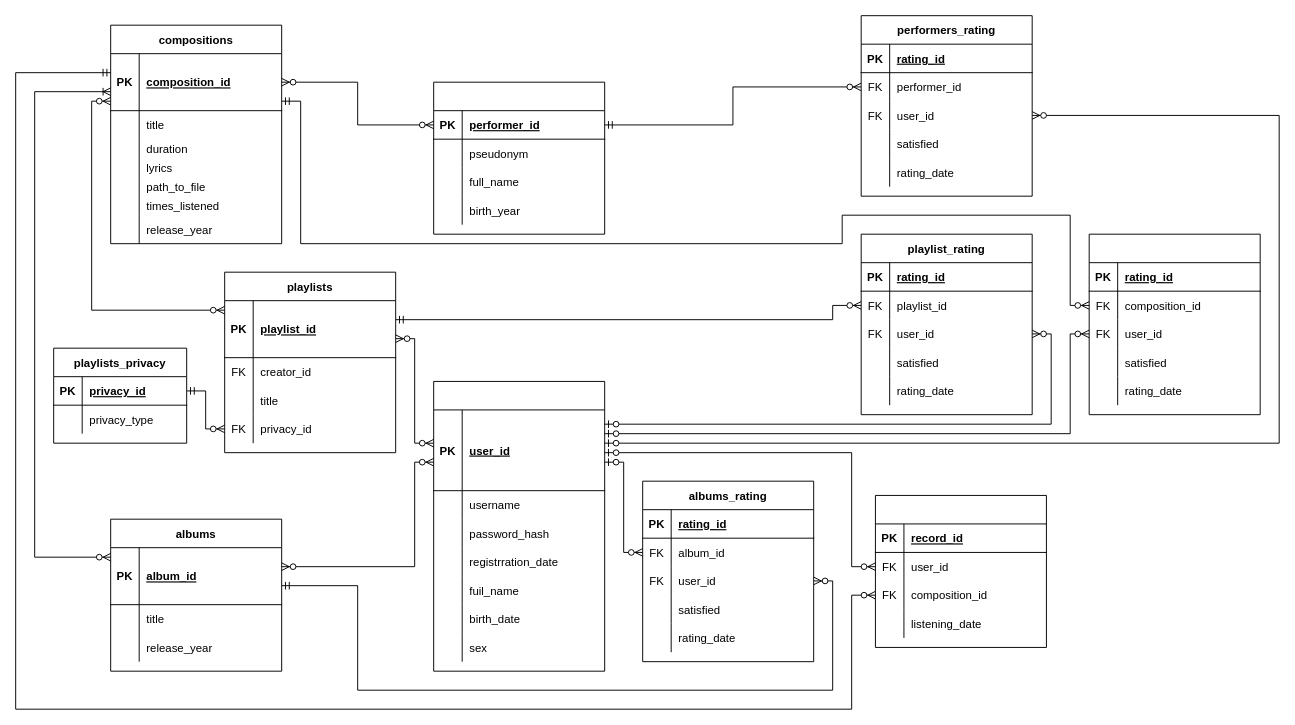
Image size: 1295x725. Some labels were removed from this diagram. Here are the shapes that lost their labels. From the top down, the box of each, then its label:
(433, 81, 605, 234): performers
(1088, 233, 1260, 415): compositions_rating
(433, 380, 605, 671): users
(874, 494, 1046, 647): listening_history
